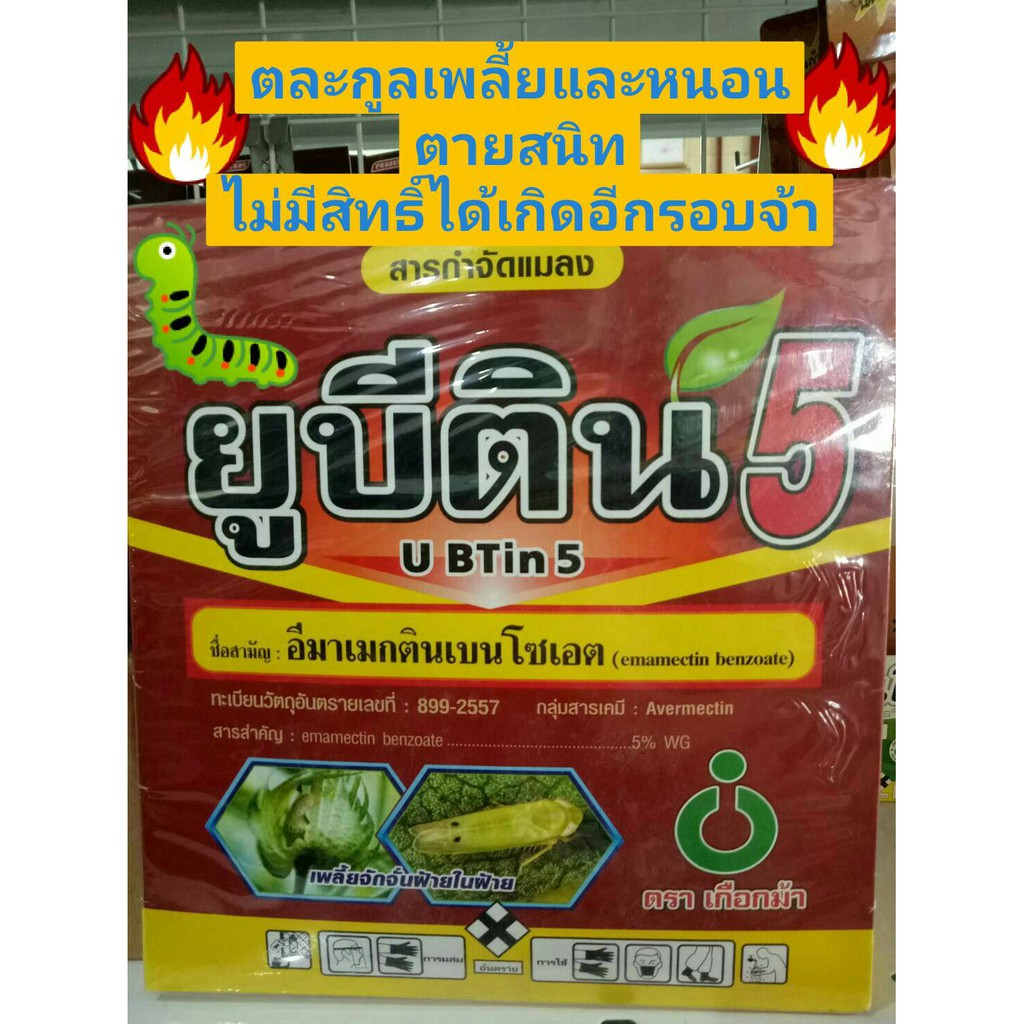Insecticide: (130, 196, 893, 1020)
